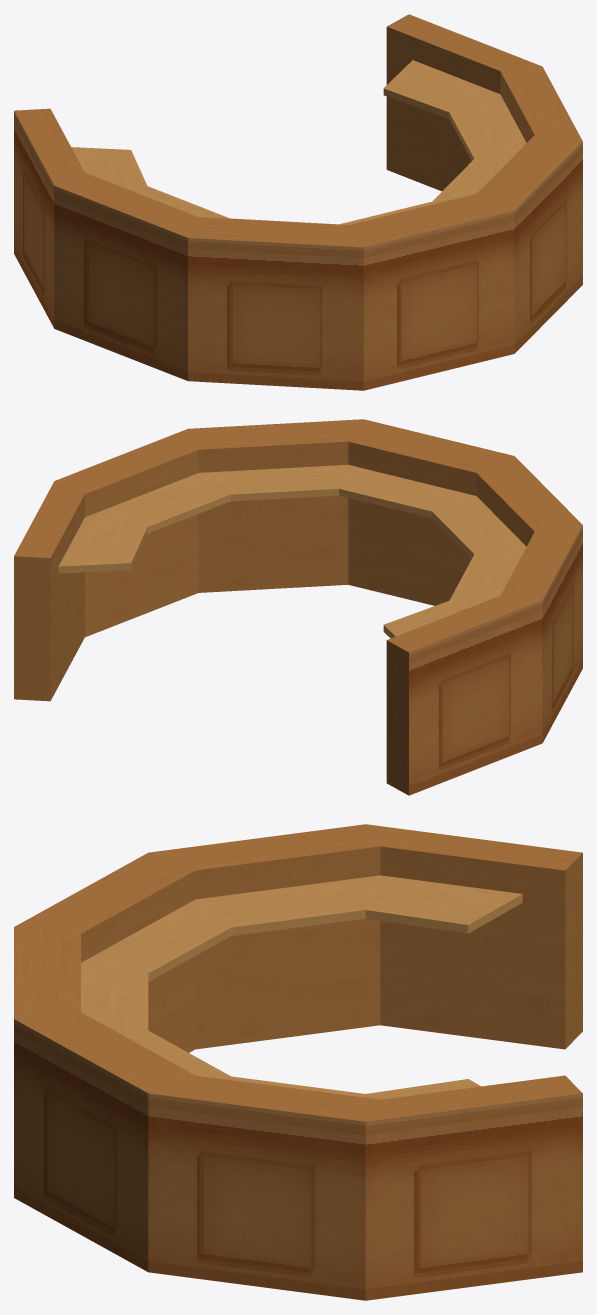
File: receptionistcounter.fbx
The picture shows the model from 3 angles, top to bottom: view 1: azimuth 30°, elevation 25°; view 2: azimuth 150°, elevation 25°; view 3: azimuth 270°, elevation 25°; orthographic projection. The views are drawn at different scales.
Visible parts, largest first — view 1: counter; view 2: counter; view 3: counter.
Part boxes in pixels (box(x1,y1,x2,y2)): counter: box(14, 14, 582, 390); counter: box(14, 419, 582, 795); counter: box(14, 824, 582, 1300).
Size of the model in its own units: 302 by 84.73 by 244.
